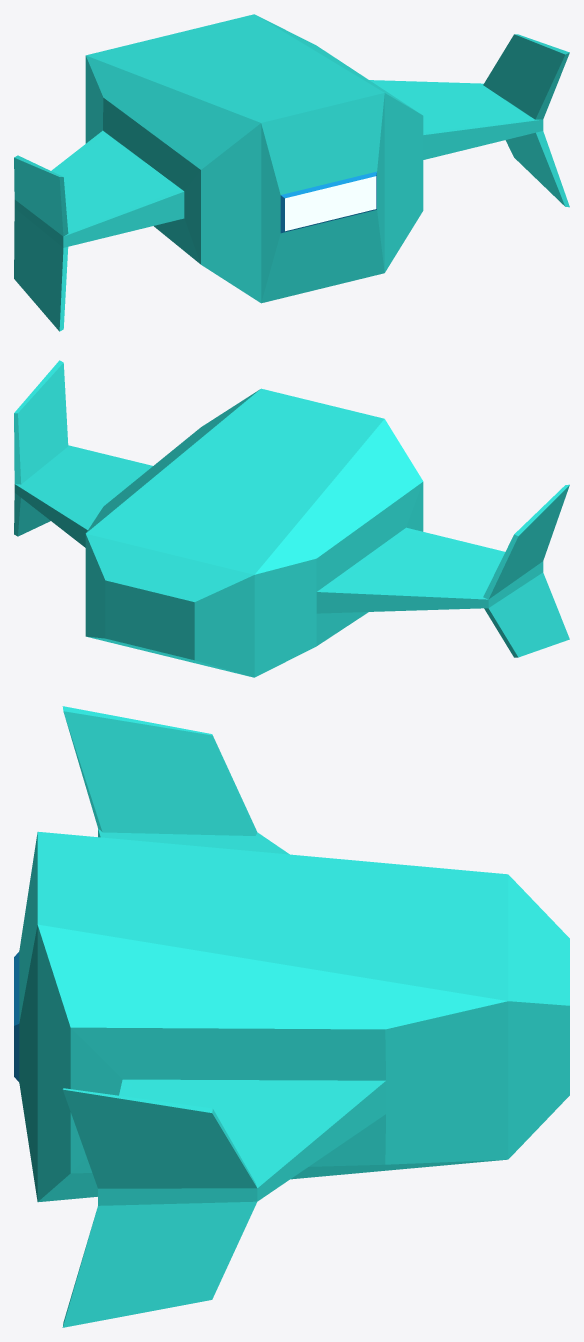
File: Parsec Run Ship 2.glb
The picture shows the model from 3 angles, top to bottom: view 1: azimuth 30°, elevation 25°; view 2: azimuth 150°, elevation 25°; view 3: azimuth 270°, elevation 25°; orthographic projection. The views are drawn at different scales.
Parts seen in each view (by area): view 1: Cube.002; view 2: Cube.002; view 3: Cube.002.
Boxes of the visible parts, box(x1,y1,x2,y2) form: Cube.002: box(14, 14, 569, 331); Cube.002: box(14, 360, 569, 677); Cube.002: box(14, 706, 569, 1327).
Size of the model in its own units: 3.63 by 1.23 by 2.22.
